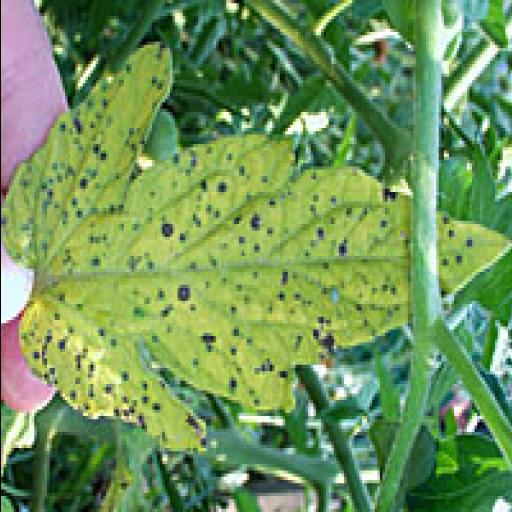disease_tomato: (10, 35, 506, 461)
